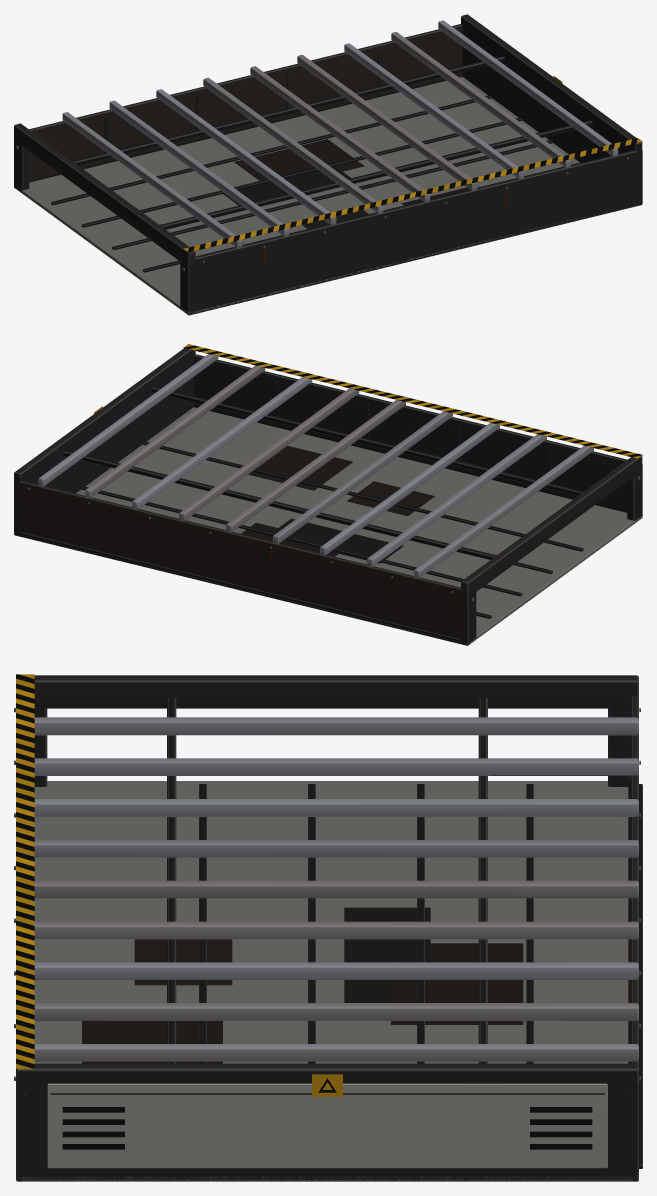
The model's file is slot_sieve.glb.
3 views of the same model, one above another, from view 1: azimuth 30°, elevation 25°; view 2: azimuth 150°, elevation 25°; view 3: azimuth 270°, elevation 25° (orthographic). The views are drawn at different scales.
Visible parts, largest first — view 1: Frame; view 2: Frame; view 3: Frame.
Boxes of the visible parts, x1,y1,x2,y2 form: Frame: (14,14,642,315); Frame: (14,344,642,645); Frame: (14,674,642,1181).
Size of the model in its own units: 6.05 by 0.802 by 4.04.
